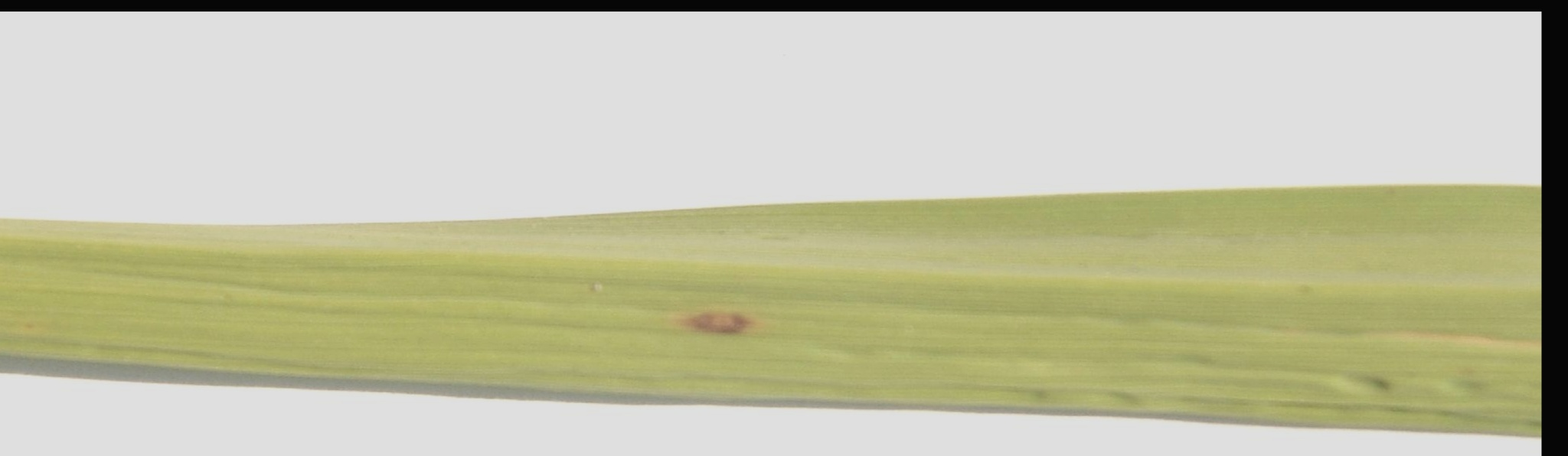Bacterial_Leaf_Blight: (644, 287, 768, 349)
